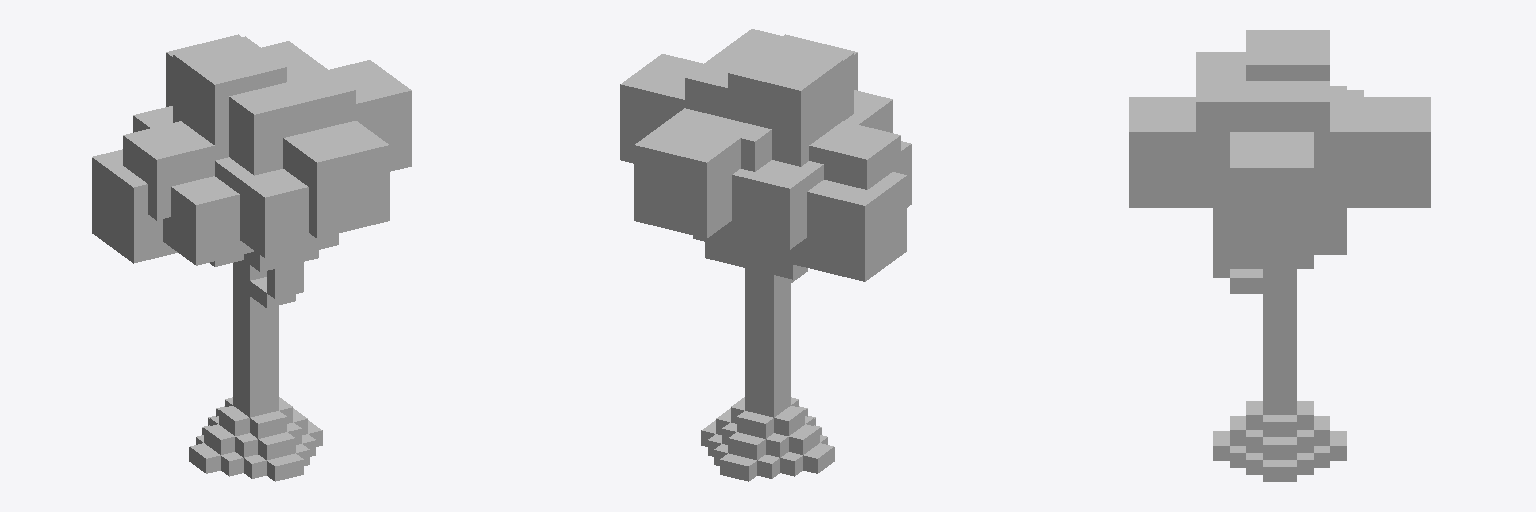
Rendered from tree1.obj.
The picture shows the model from 3 angles: view 1: azimuth 30°, elevation 25°; view 2: azimuth 150°, elevation 25°; view 3: azimuth 270°, elevation 25°; orthographic projection.
Parts seen in each view (by area): view 1: object 1; view 2: object 1; view 3: object 1.
Boxes of the visible parts, x1,y1,x2,y2 form: object 1: [92, 34, 411, 481]; object 1: [620, 29, 911, 481]; object 1: [1129, 30, 1430, 481].
Size of the model in its own units: 1.8 by 2.6 by 1.8.